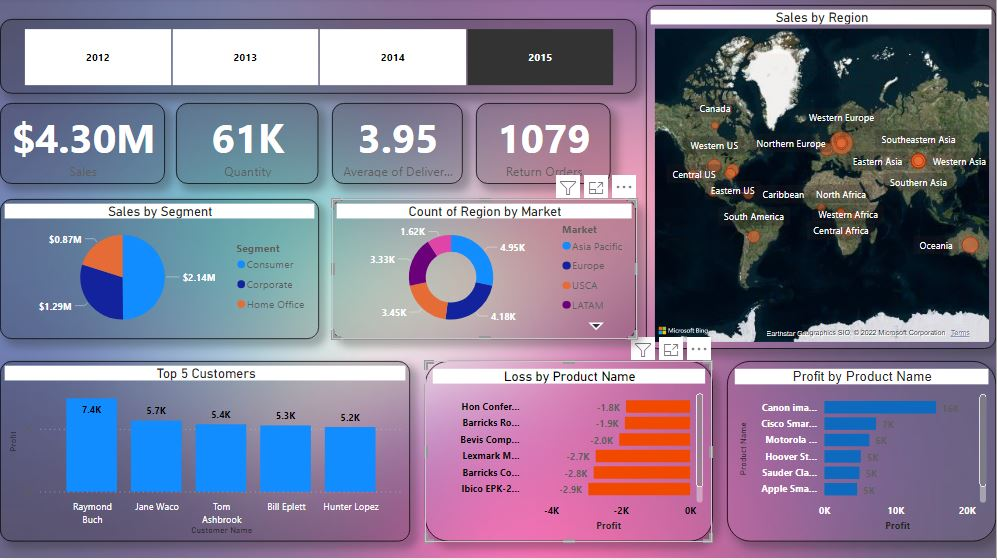

Layout of this report page (visuals, bound fields, positions):
{"tool":"powerbi","page":{"name":"Sales Insight ","canvas":[1280,720],"ordinal":0},"visuals":[{"type":"card","title":"Sales","fields":{"Values":["Orders.Sales"]},"box":[0,134.4,211.7,104.1],"z":0},{"type":"card","title":"Quantity","fields":{"Values":["Orders.Quantity"]},"box":[226.8,134.4,183.1,104.1],"z":1000},{"type":"card","fields":{"Values":["Orders.Delivery days "]},"box":[426.7,134.4,168,104.1],"z":2000},{"type":"slicer","title":"Year","fields":{"Values":["Orders.Year"]},"box":[0,26.9,818.1,95.7],"z":3000},{"type":"card","fields":{"Values":["Returns.Return date "]},"box":[611.4,134.4,173,104.1],"z":4000},{"type":"map","fields":{"Category":["Orders.Region"],"Size":["Orders.Sales"]},"box":[829.8,8.4,450.2,441.8],"z":5000},{"type":"clusteredBarChart","fields":{"Category":["Orders.Product Name"],"Y":["Orders.Profit"]},"box":[934,467,346,231.8],"z":6000},{"type":"clusteredBarChart","title":"Loss by Product Name","fields":{"Category":["Orders.Product Name"],"Y":["Orders.Profit"]},"box":[545.9,467,369.6,231.8],"z":7000},{"type":"pieChart","fields":{"Category":["Orders.Segment"],"Y":["Orders.Sales"]},"box":[0,258.7,409.9,179.7],"z":8000},{"type":"donutChart","fields":{"Y":["Orders.Region"],"Category":["Orders.Market"]},"box":[426.7,258.7,391.4,179.7],"z":9000},{"type":"columnChart","title":"Top 5 Customers","fields":{"Category":["Orders.Customer Name"],"Y":["Orders.Profit"]},"box":[0,467,527.5,231.8],"z":10000}]}

Visuals, with their boxes in screenshot pixels (x1, y1, x2, y2), scaled from the page's 1280x720 canvas onto the 997x560 screenshot:
"Sales" card: bbox=[0, 105, 165, 186]
"Quantity" card: bbox=[177, 105, 319, 186]
card - Orders.Delivery days : bbox=[332, 105, 463, 186]
"Year" slicer: bbox=[0, 21, 637, 95]
card - Returns.Return date : bbox=[476, 105, 611, 186]
map - Orders.Region x Orders.Sales: bbox=[646, 7, 996, 350]
clusteredBarChart - Orders.Product Name x Orders.Profit: bbox=[727, 363, 996, 544]
"Loss by Product Name" clusteredBarChart: bbox=[425, 363, 713, 544]
pieChart - Orders.Segment x Orders.Sales: bbox=[0, 201, 319, 341]
donutChart - Orders.Region x Orders.Market: bbox=[332, 201, 637, 341]
"Top 5 Customers" columnChart: bbox=[0, 363, 411, 544]
